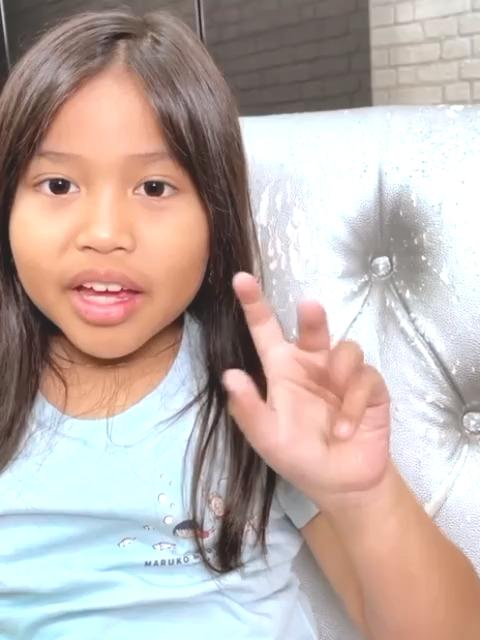X: (213, 260, 410, 494)
